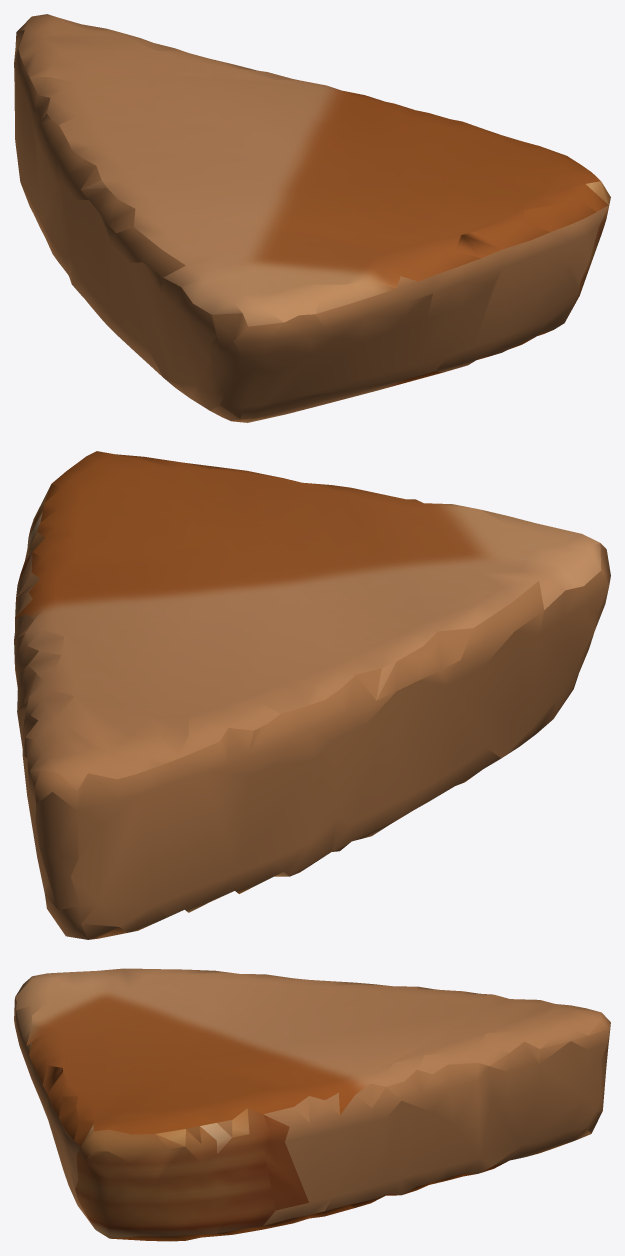
The model's file is Glacier_board14.fbx.
3 views of the same model, one above another, from view 1: azimuth 30°, elevation 25°; view 2: azimuth 150°, elevation 25°; view 3: azimuth 270°, elevation 25° (orthographic). The views are drawn at different scales.
Parts seen in each view (by area): view 1: material_0; view 2: material_0; view 3: material_0.
Boxes of the visible parts, x1,y1,x2,y2 form: material_0: (14,14,610,422); material_0: (14,451,610,939); material_0: (14,968,610,1241).
Bounding box in the file's own units: 0.0927 × 0.0349 × 0.1341.
